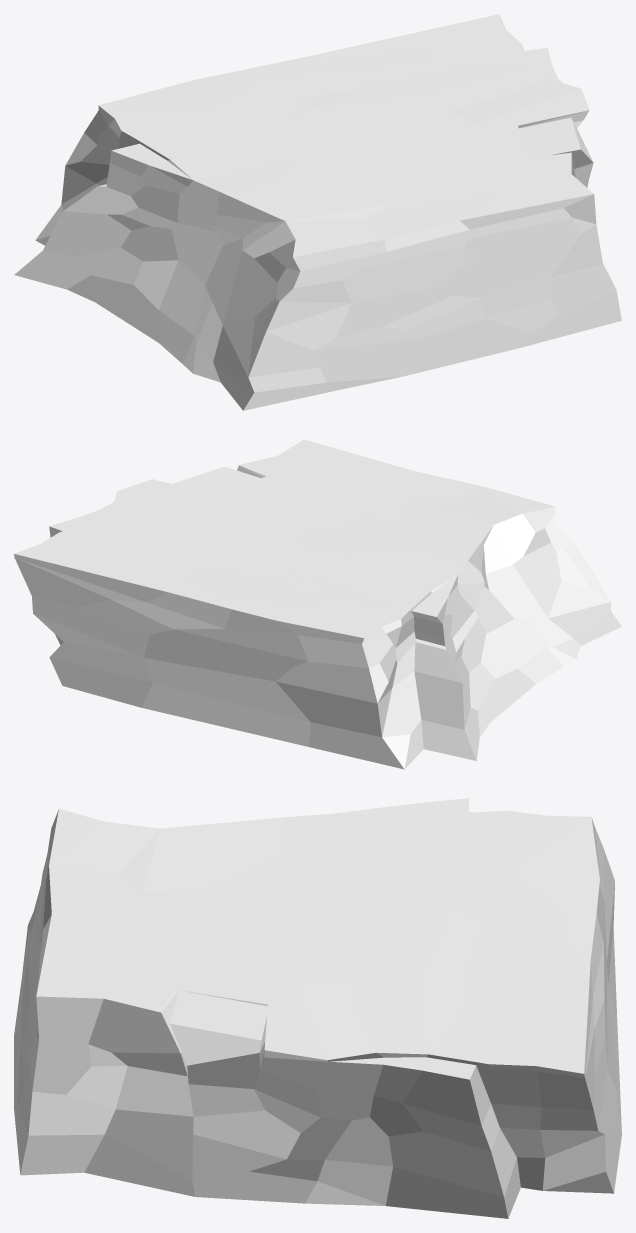
File: Ground_dark_black.fbx
3 views of the same model, one above another, from view 1: azimuth 30°, elevation 25°; view 2: azimuth 150°, elevation 25°; view 3: azimuth 270°, elevation 25° (orthographic). The views are drawn at different scales.
Parts seen in each view (by area): view 1: Cliff_U.002; view 2: Cliff_U.002; view 3: Cliff_U.002.
Boxes of the visible parts, x1=… form: Cliff_U.002: x1=14, y1=14, x2=621, y2=410; Cliff_U.002: x1=14, y1=439, x2=621, y2=769; Cliff_U.002: x1=14, y1=798, x2=621, y2=1218.
Size of the model in its own units: 17697 by 4305 by 14132.
